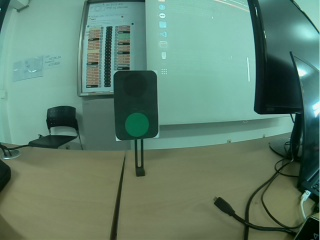green_light: (115, 72, 154, 136)
